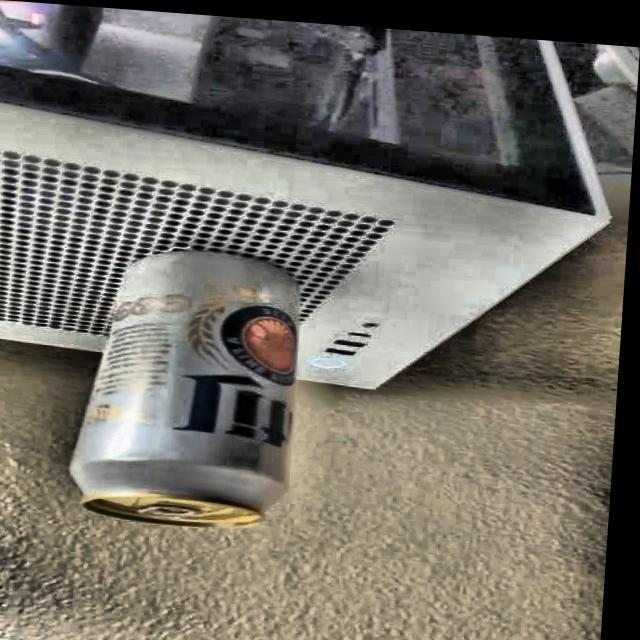litter: (70, 225, 333, 538)
